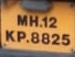character: (5, 29, 15, 42), (17, 14, 27, 26), (29, 14, 38, 26), (48, 16, 57, 28), (16, 30, 25, 42), (30, 31, 39, 43), (41, 32, 50, 44), (51, 33, 60, 45), (61, 33, 70, 45), (42, 15, 48, 27)
